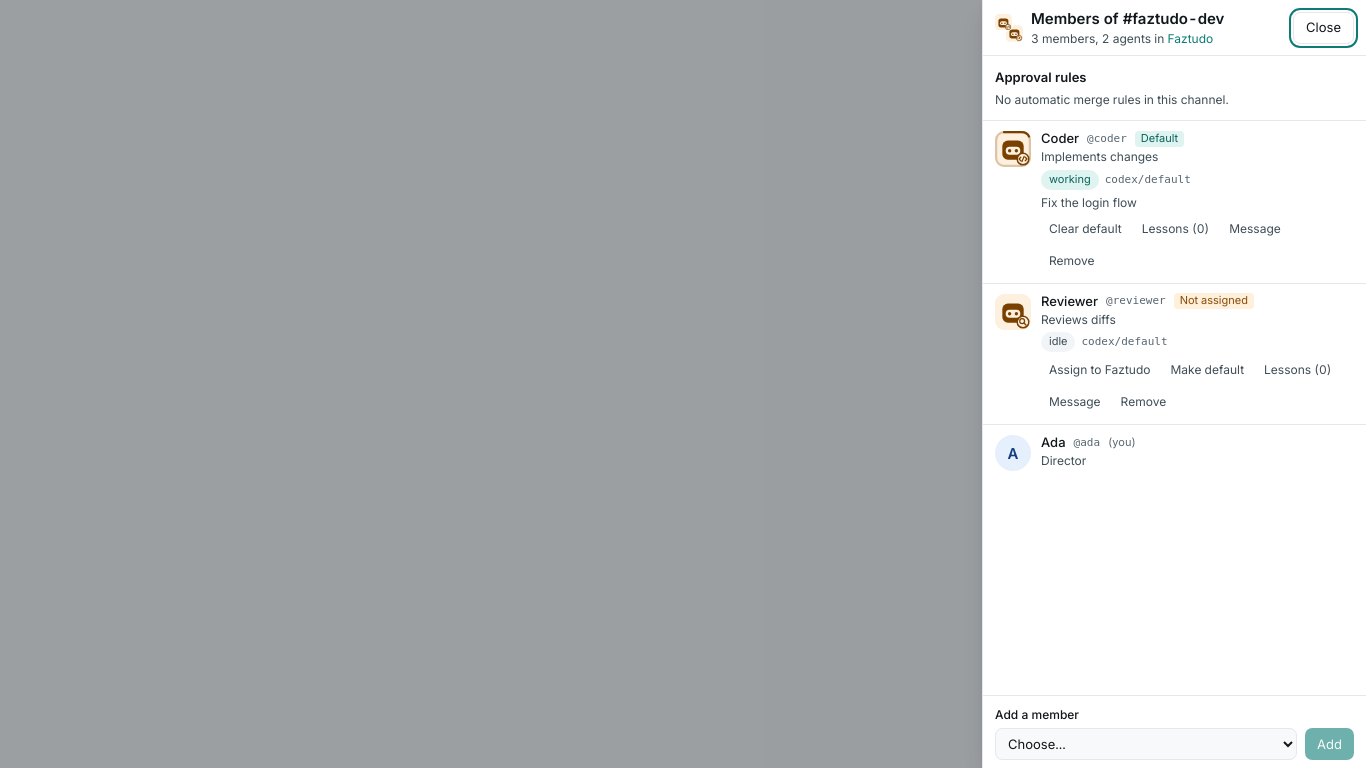
Test: MembersPanel › shows the server's message when a change fails
Click the button "Assign to Faztudo": (1100, 370) left=1041, top=356, right=1158, bottom=384
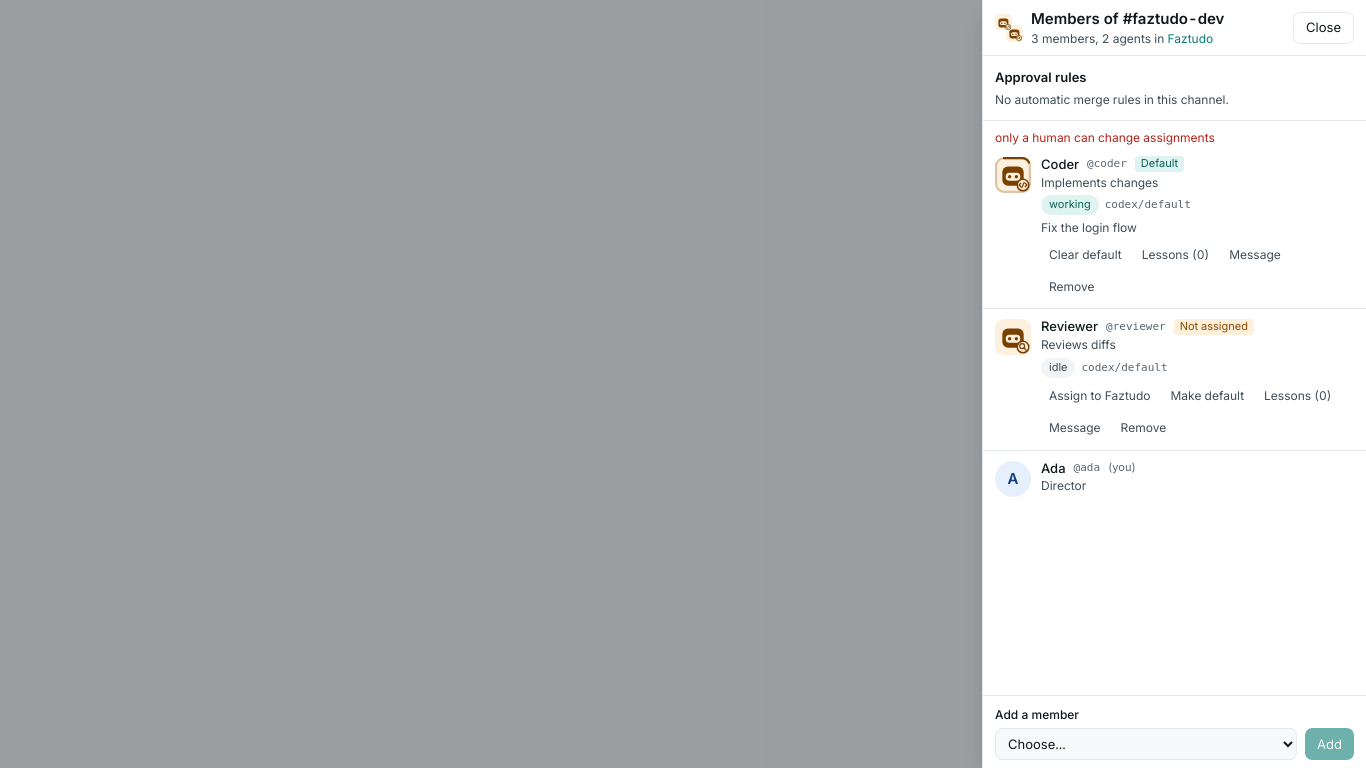
Expected: the message reads "only a human can change assignments", left=995, top=130, right=1215, bottom=145
